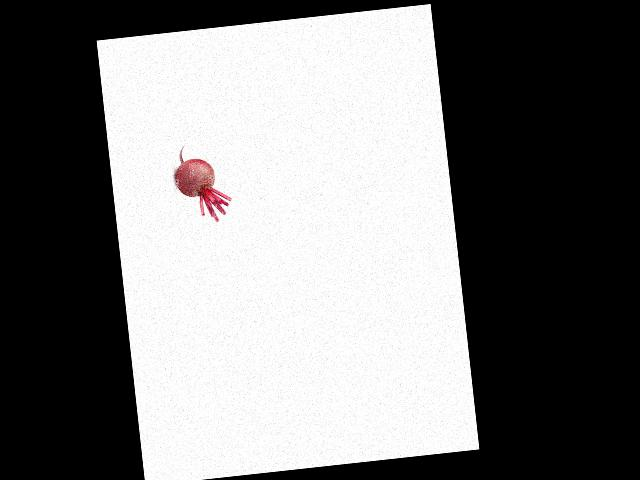beet: (172, 141, 233, 226)
